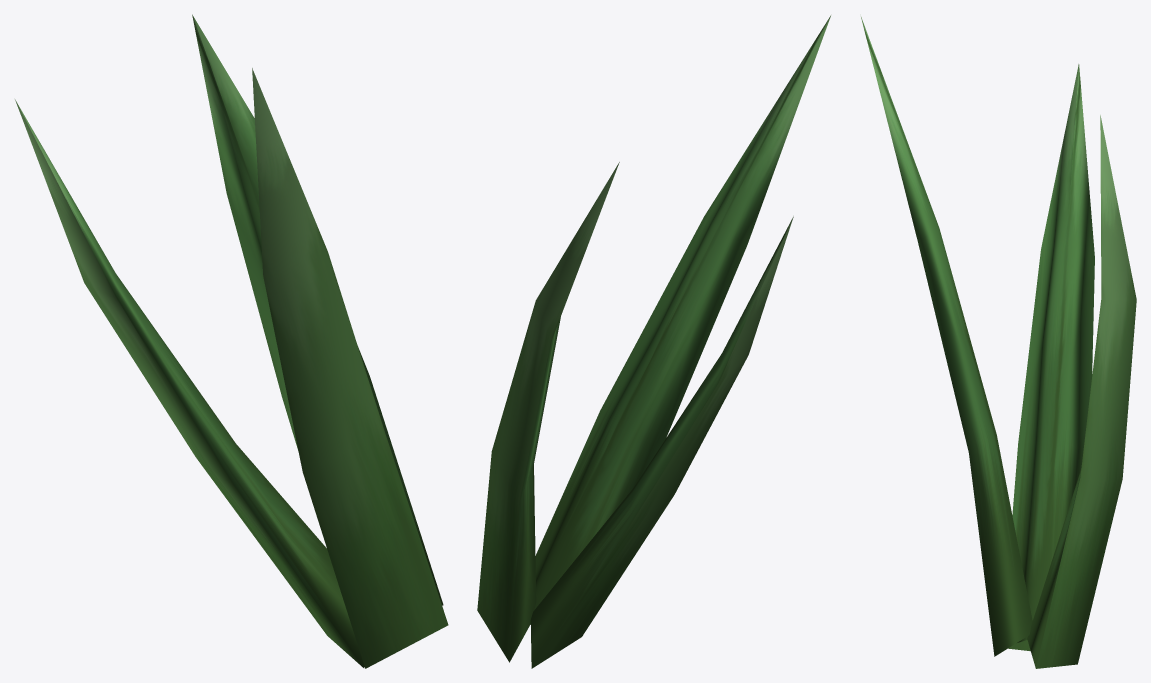
Rendered from GrassUnity.fbx.
The picture shows the model from 3 angles, left to right: view 1: azimuth 30°, elevation 25°; view 2: azimuth 150°, elevation 25°; view 3: azimuth 270°, elevation 25°; orthographic projection. The views are drawn at different scales.
Visible parts, largest first — view 1: pCone6; view 2: pCone6; view 3: pCone6.
Part boxes in pixels (x1,y1,x2,y2): pCone6: (15,14,448,668); pCone6: (477,15,830,668); pCone6: (861,17,1136,668).
Size of the model in its own units: 7.34 by 12.63 by 5.64.
